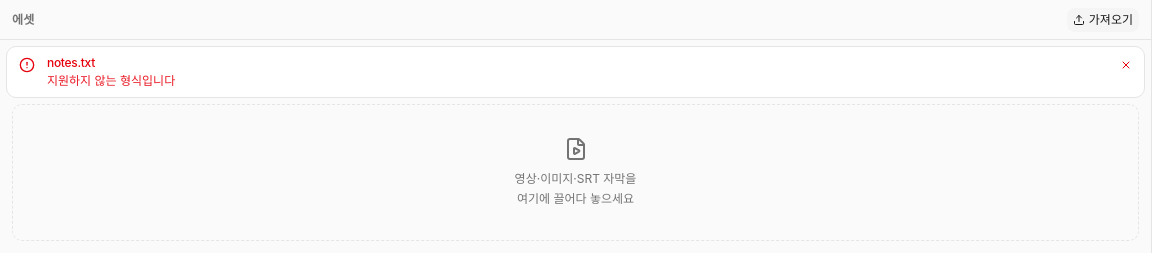
Test: AssetPanel › 지원하지 않는 파일은 오류를 표시하고 닫을 수 있다
The image size is (1152, 270).
Earlier steps of the test are not shown.
Check: the message shows "notes.txt", box [47,55,95,70]
Check: the message shows "지원하지 않는 형식입니다", box [47,73,175,88]
What coordinates should you click on to do the following:
click the button named "notes.txt 오류 닫기"
I would click on:
 (1126, 65)
Its box is [1114,53,1138,77].
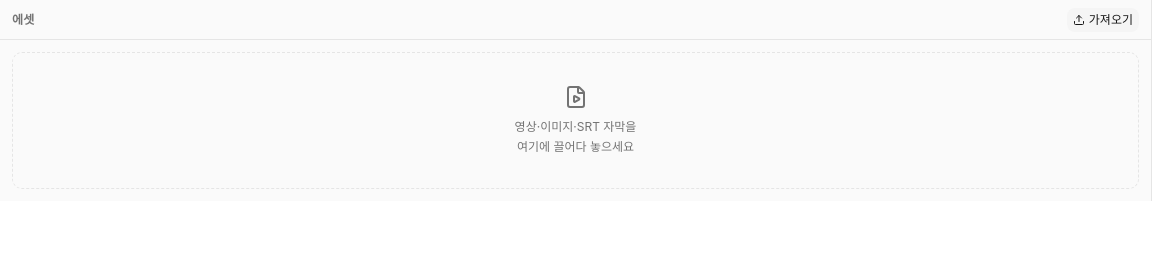
Check: the message "notes.txt 지원하지 않는 형식입니다" is gone
